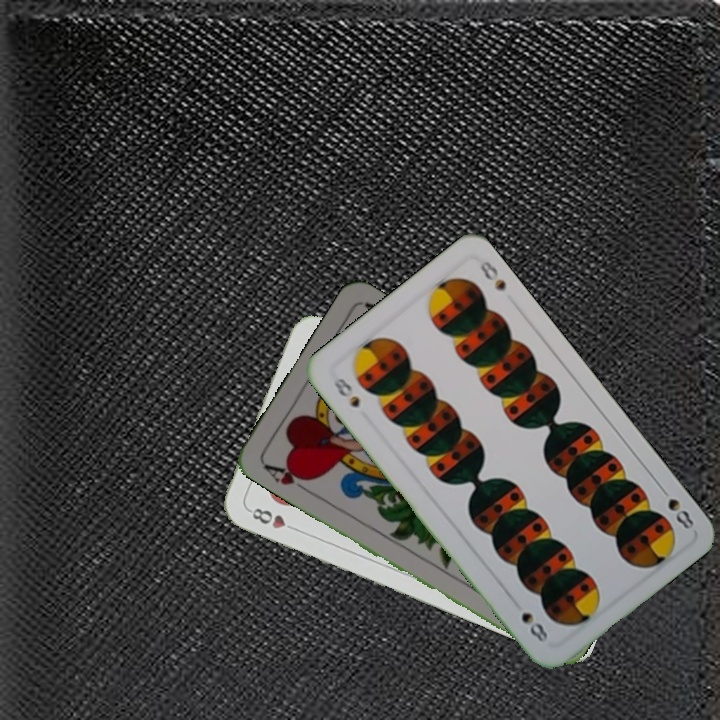H8: (244, 503, 301, 534)
HA: (259, 459, 315, 496)
S8: (654, 481, 697, 532), (329, 373, 363, 411)
